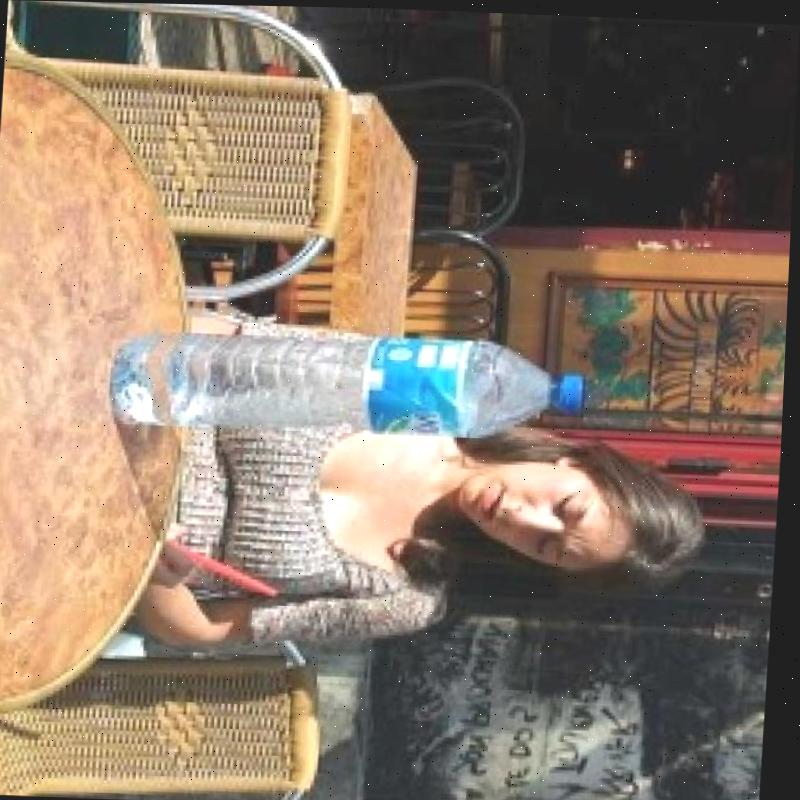botella: (108, 321, 589, 443)
